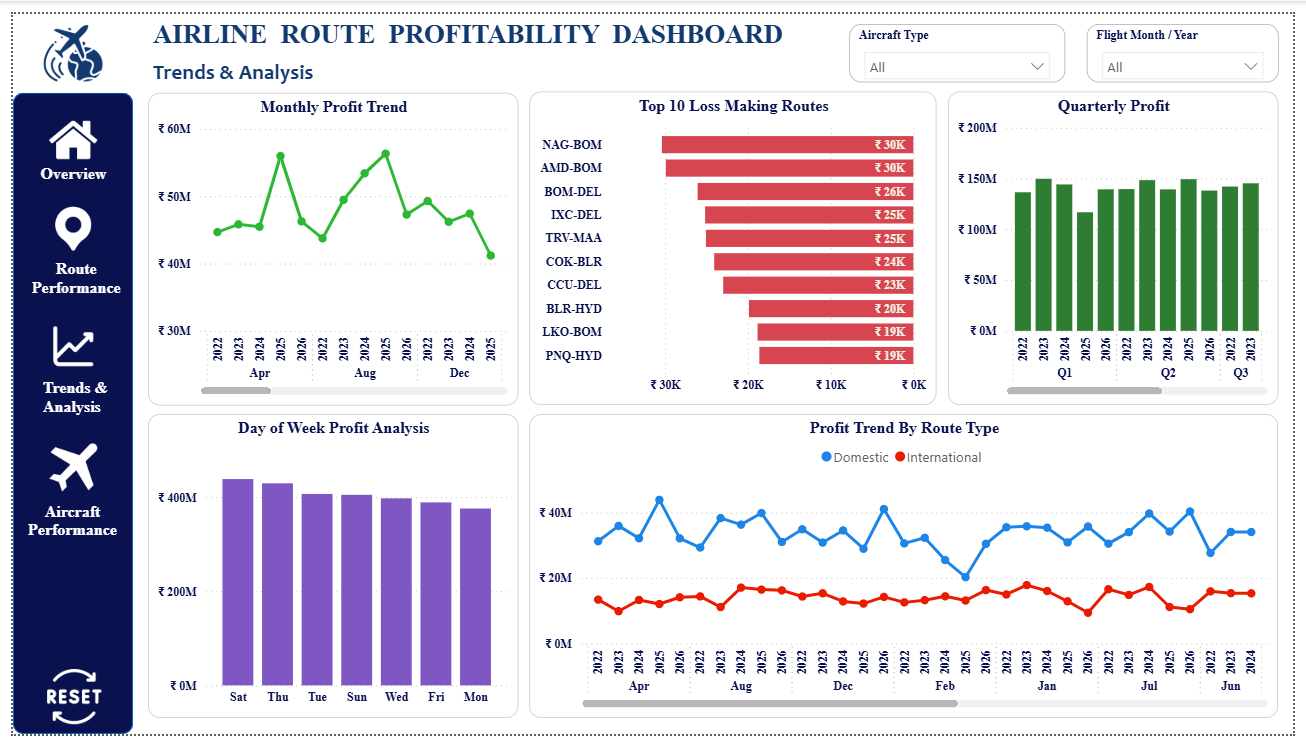

This screenshot's page, from the dashboard's own definition file:
{"tool":"powerbi","page":{"name":"Trends & Analysis","canvas":[1280,720],"ordinal":2},"visuals":[{"type":"image","box":[17.5,10,85,58.8],"z":0},{"type":"shape","box":[0,78.8,120,641.2],"z":1000},{"type":"textbox","box":[135,0,646.2,40],"z":2000},{"type":"lineChart","title":"Profit Trend By Route Type","fields":{"Category":["AirlineRoutesData.Flightdate Hierarchy.Month","AirlineRoutesData.Flightdate Hierarchy.Year"],"Series":["AirlineRoutesData.Route Type"],"Y":["Measure.Total Profit"]},"box":[516.2,400,748.8,303.8],"z":3000},{"type":"columnChart","title":"Quarterly Profit","fields":{"Category":["AirlineRoutesData.Flightdate Hierarchy.Quarter","AirlineRoutesData.Flightdate Hierarchy.Year"],"Y":["Measure.Total Profit"]},"box":[935,77.5,330,313.8],"z":4000},{"type":"lineChart","title":"Monthly Profit Trend ","fields":{"Category":["AirlineRoutesData.Flightdate Hierarchy.Month","AirlineRoutesData.Flightdate Hierarchy.Year"],"Y":["Measure.Total Profit"]},"box":[135,78.8,370,312.5],"z":5000},{"type":"columnChart","title":"Day of Week Profit Analysis","fields":{"Category":["AirlineRoutesData.Day"],"Y":["Measure.Total Profit"]},"box":[135,400,370,303.8],"z":6000},{"type":"clusteredBarChart","title":"Top 10 Loss Making Routes","fields":{"Category":["AirlineRoutesData.Routecode"],"Y":["Measure.Lowest Profit"]},"box":[516.2,77.5,407.5,313.8],"z":7000},{"type":"textbox","box":[135.4,39.6,193,38.4],"z":8000},{"type":"slicer","title":"Aircraft Type","fields":{"Values":["AirlineRoutesData.Aircrafttype"]},"box":[836.6,9.6,215.7,58.7],"z":9000},{"type":"slicer","title":"Flight Month / Year","fields":{"Values":["AirlineRoutesData.Month Year"]},"box":[1073.9,9.6,191.8,58.7],"z":10000},{"type":"image","box":[36,98.3,47.9,53.9],"z":10001},{"type":"image","box":[36,187,47.9,53.9],"z":10002},{"type":"image","box":[36,305.6,47.9,53.9],"z":10003},{"type":"image","box":[36,426.7,47.9,53.9],"z":10004},{"type":"textbox","box":[13.2,146.2,93.5,40.7],"z":10005},{"type":"textbox","box":[13.2,240.9,103.1,50.3],"z":10006},{"type":"textbox","box":[25.2,359.6,86.3,57.5],"z":10007},{"type":"textbox","box":[9.6,484.2,103.1,65.9],"z":10008},{"type":"image","box":[32.4,655.6,57.5,55.1],"z":10009}]}

Visuals, with their boxes in screenshot pixels (x1, y1, x2, y2), scaled from the page's 1280x720 canvas onto the 1306x747 screenshot:
image: x1=18 y1=10 x2=105 y2=71
shape: x1=0 y1=82 x2=122 y2=746
textbox: x1=138 y1=0 x2=797 y2=42
"Profit Trend By Route Type" lineChart: x1=527 y1=415 x2=1291 y2=730
"Quarterly Profit" columnChart: x1=954 y1=80 x2=1291 y2=406
"Monthly Profit Trend " lineChart: x1=138 y1=82 x2=515 y2=406
"Day of Week Profit Analysis" columnChart: x1=138 y1=415 x2=515 y2=730
"Top 10 Loss Making Routes" clusteredBarChart: x1=527 y1=80 x2=942 y2=406
textbox: x1=138 y1=41 x2=335 y2=81
"Aircraft Type" slicer: x1=854 y1=10 x2=1074 y2=71
"Flight Month / Year" slicer: x1=1096 y1=10 x2=1291 y2=71
image: x1=37 y1=102 x2=86 y2=158
image: x1=37 y1=194 x2=86 y2=250
image: x1=37 y1=317 x2=86 y2=373
image: x1=37 y1=443 x2=86 y2=499
textbox: x1=13 y1=152 x2=109 y2=194
textbox: x1=13 y1=250 x2=119 y2=302
textbox: x1=26 y1=373 x2=114 y2=433
textbox: x1=10 y1=502 x2=115 y2=571
image: x1=33 y1=680 x2=92 y2=737
